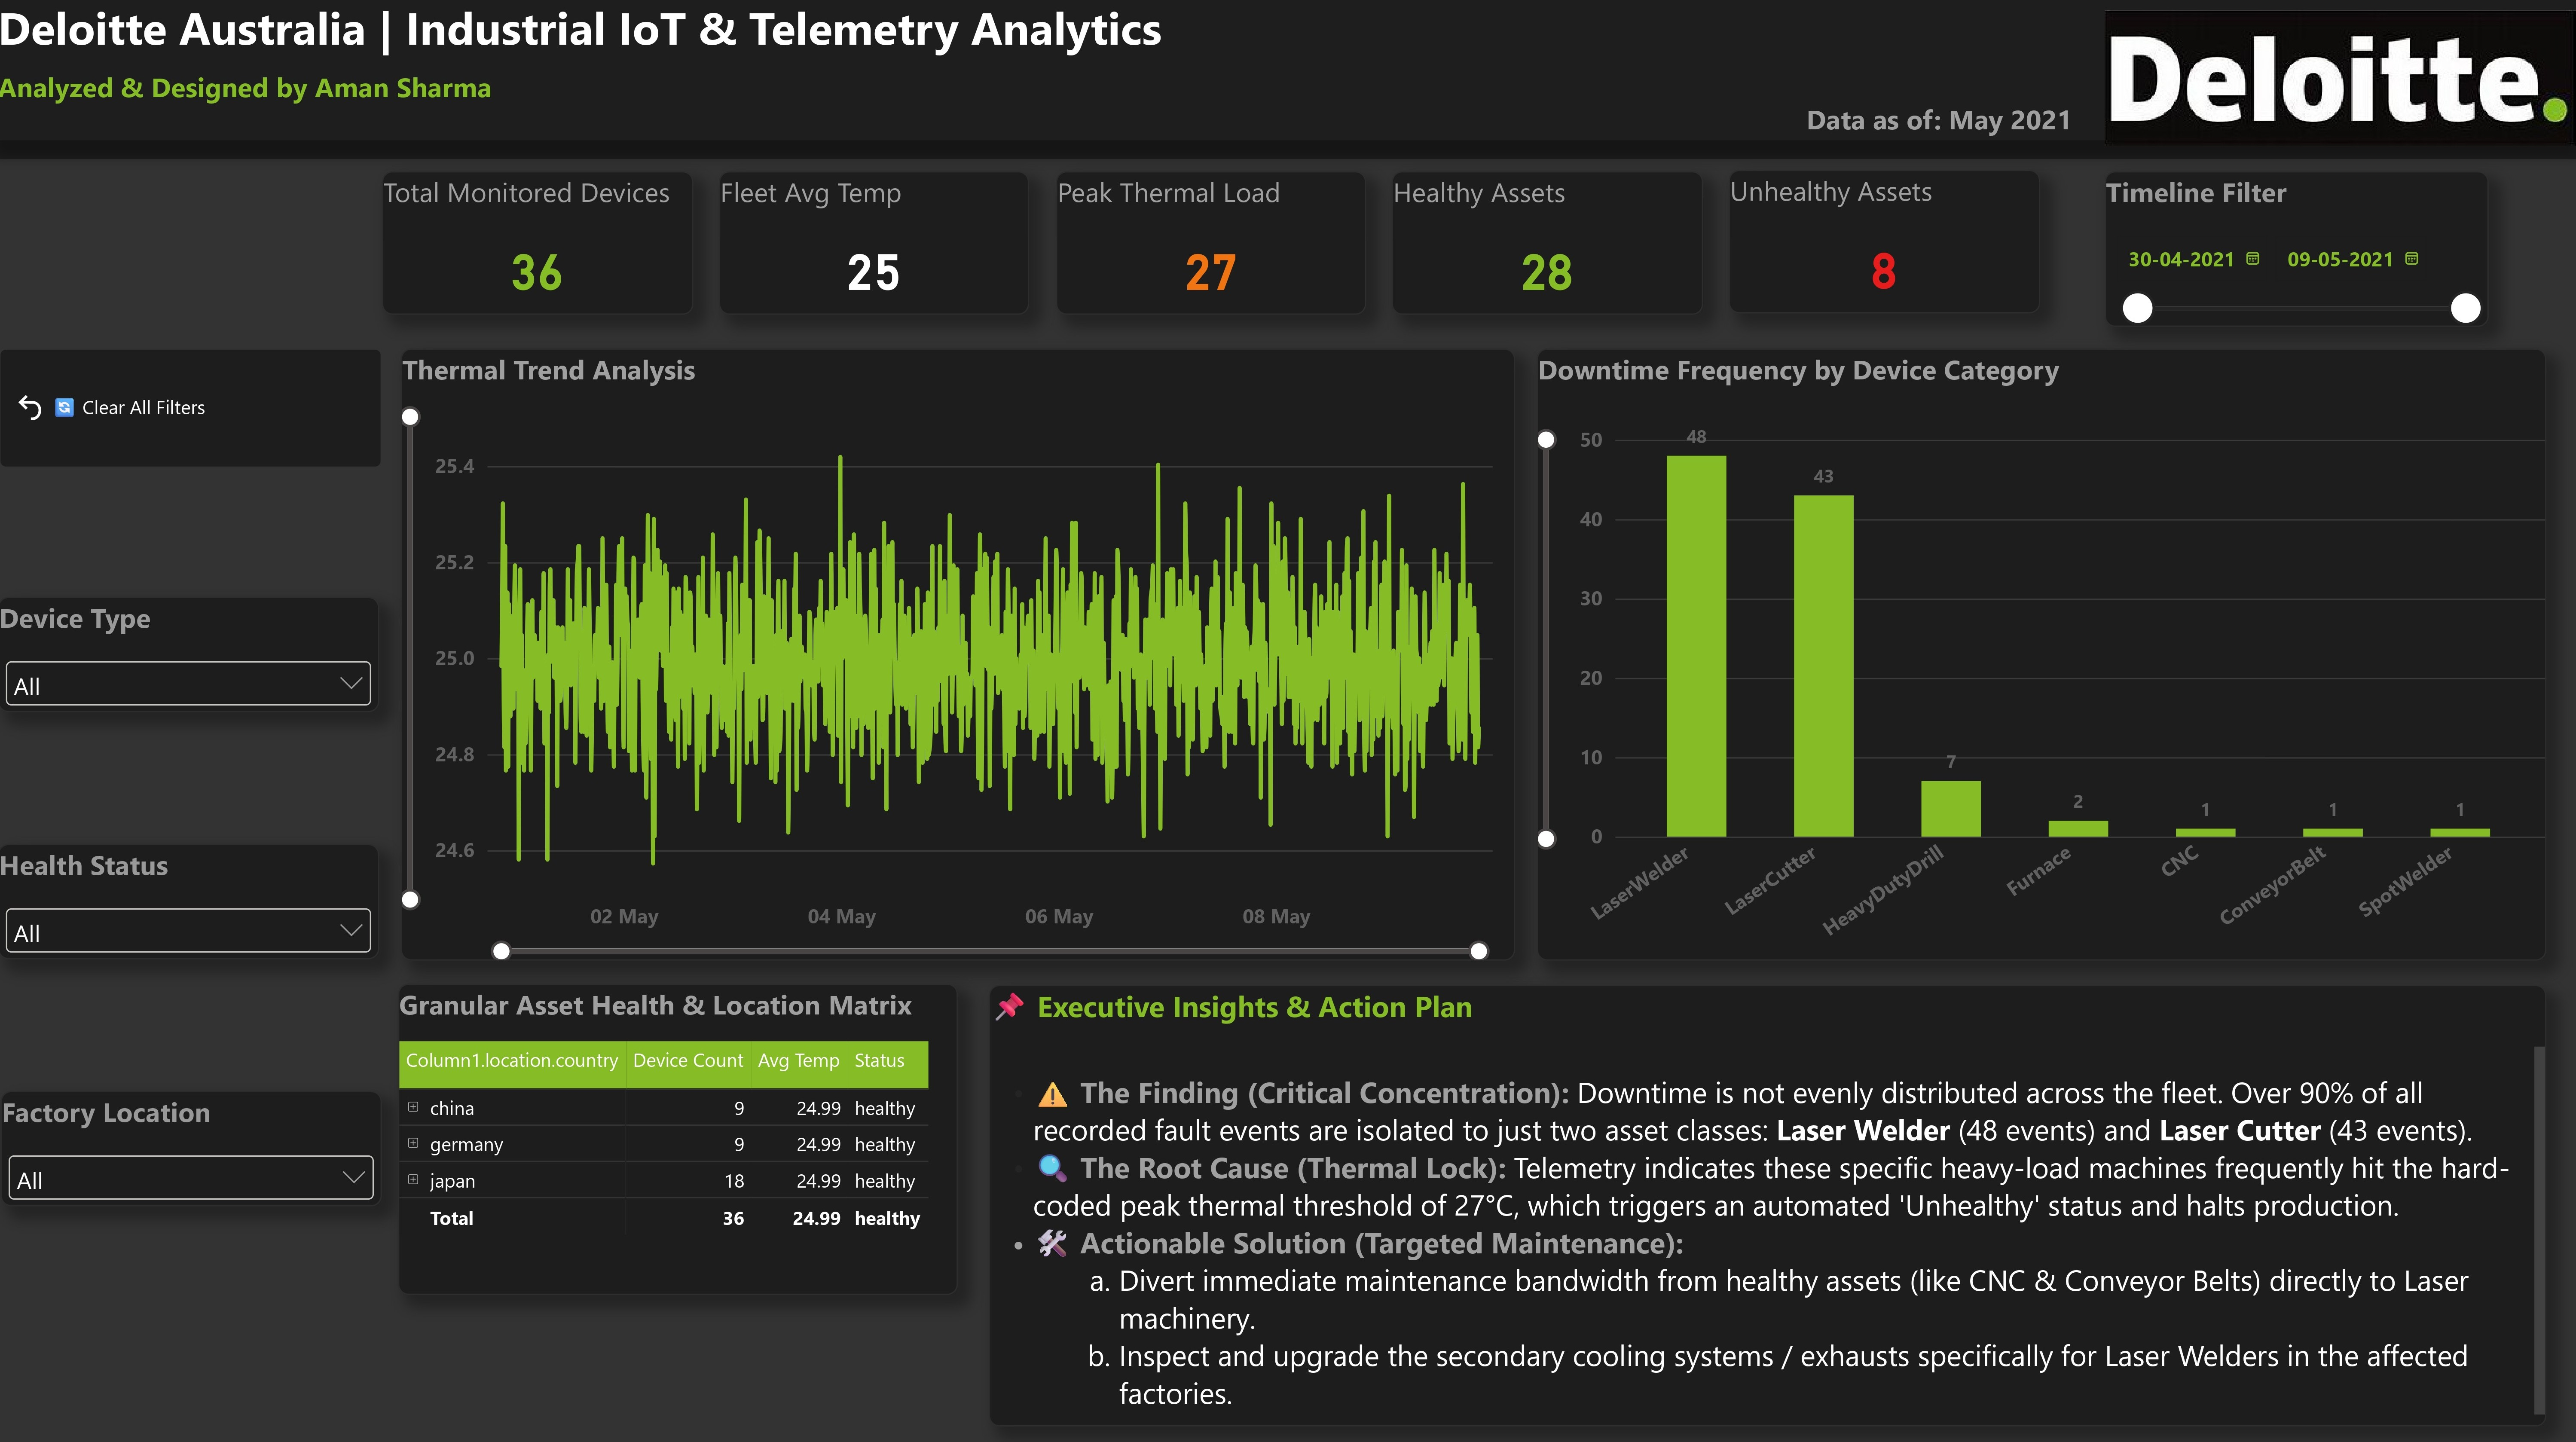

The page's visual inventory and layout, read from the dashboard file:
{"tool":"powerbi","page":{"name":"Page 1","canvas":[1920,1080],"ordinal":0},"visuals":[{"type":"shape","box":[0,0,1920.2,121.3],"z":0},{"type":"textbox","title":"Deloitte Australia | Industrial IoT & Telemetry Analytics","box":[0,0,1920.2,107.1],"z":1000},{"type":"textbox","title":"Data as of: May 2021","box":[1262.5,76.6,282.8,31.2],"z":2000},{"type":"image","box":[1568.5,0,351.7,121.3],"z":3000},{"type":"cardVisual","title":"Total Monitored Devices","fields":{"Data":["daikibo-telemetry-data.Total Devices"]},"box":[286,130,231.6,106.9],"z":4000},{"type":"cardVisual","title":"Peak Thermal Load","fields":{"Data":["Max(daikibo-telemetry-data.Column1.data.temperature)"]},"box":[787.6,130,231.6,106.9],"z":5000},{"type":"cardVisual","title":"Fleet Avg Temp","fields":{"Data":["daikibo-telemetry-data.Avg_temp"]},"box":[536.8,130,231.6,106.9],"z":6000},{"type":"cardVisual","title":"Unhealthy Assets","fields":{"Data":["daikibo-telemetry-data.Total Devices"]},"box":[1289.2,129.1,231.6,106.9],"z":7000},{"type":"cardVisual","title":"Healthy Assets","fields":{"Data":["daikibo-telemetry-data.True Healthy Assets"]},"box":[1038.4,130,231.6,106.9],"z":8000},{"type":"slicer","title":"Device Type","fields":{"Values":["daikibo-telemetry-data.Column1.deviceType"]},"box":[0,447.4,284.4,85.9],"z":9000},{"type":"slicer","title":"Health Status","fields":{"Values":["daikibo-telemetry-data.Column1.data.status"]},"box":[0,631,284.4,85.9],"z":10000},{"type":"slicer","title":"Factory Location","fields":{"Values":["daikibo-telemetry-data.Column1.location.factory"]},"box":[2,814.6,284.4,85.9],"z":11000},{"type":"lineChart","title":"Thermal Trend Analysis","fields":{"Category":["daikibo-telemetry-data.ActualDateTime"],"Y":["Avg(daikibo-telemetry-data.Column1.data.temperature)"]},"box":[300,262,830,456],"z":12000},{"type":"slicer","title":"Timeline Filter","fields":{"Values":["daikibo-telemetry-data.ActualDateTime"]},"box":[1568.8,129.7,286,116],"z":13000},{"type":"clusteredColumnChart","title":"Downtime Frequency by Device Category","fields":{"Category":["daikibo-telemetry-data.Column1.deviceType"],"Y":["CountNonNull(daikibo-telemetry-data.Column1.data.status)"]},"box":[1146,262,752,456],"z":14000},{"type":"pivotTable","title":"Granular Asset Health & Location Matrix","fields":{"Rows":["daikibo-telemetry-data.Column1.location.country","daikibo-telemetry-data.Column1.location.city","daikibo-telemetry-data.Column1.location.factory","daikibo-telemetry-data.Column1.location.section"],"Values":["Count(daikibo-telemetry-data.Column1.deviceID)","Avg(daikibo-telemetry-data.Column1.data.temperature)","Min(daikibo-telemetry-data.Column1.data.status)"]},"box":[298.3,735,416.7,231.7],"z":15000},{"type":"textbox","title":"📌 Executive Insights & Action Plan","box":[737.8,735.7,1160.2,329.5],"z":15001},{"type":"actionButton","box":[2,262.8,283,86.9],"z":15003}]}

Visuals, with their boxes in screenshot pixels (x1, y1, x2, y2), scaled from the page's 1920x1080 canvas onto the 2576x1442 screenshot:
shape: 0/0/2576/162
"Deloitte Australia | Industrial IoT & Telemetry Analytics" textbox: 0/0/2576/143
"Data as of: May 2021" textbox: 1694/102/2073/144
image: 2104/0/2576/162
"Total Monitored Devices" cardVisual: 384/174/694/316
"Peak Thermal Load" cardVisual: 1057/174/1367/316
"Fleet Avg Temp" cardVisual: 720/174/1031/316
"Unhealthy Assets" cardVisual: 1730/172/2041/315
"Healthy Assets" cardVisual: 1393/174/1704/316
"Device Type" slicer: 0/597/382/712
"Health Status" slicer: 0/843/382/957
"Factory Location" slicer: 3/1088/384/1202
"Thermal Trend Analysis" lineChart: 403/350/1516/959
"Timeline Filter" slicer: 2105/173/2488/328
"Downtime Frequency by Device Category" clusteredColumnChart: 1537/350/2546/959
"Granular Asset Health & Location Matrix" pivotTable: 400/981/960/1291
"📌 Executive Insights & Action Plan" textbox: 990/982/2546/1422
actionButton: 3/351/382/467
